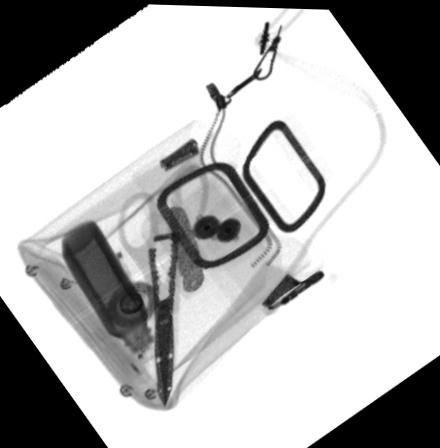Knife: (162, 205, 206, 291)
Scissors: (116, 160, 214, 407)
